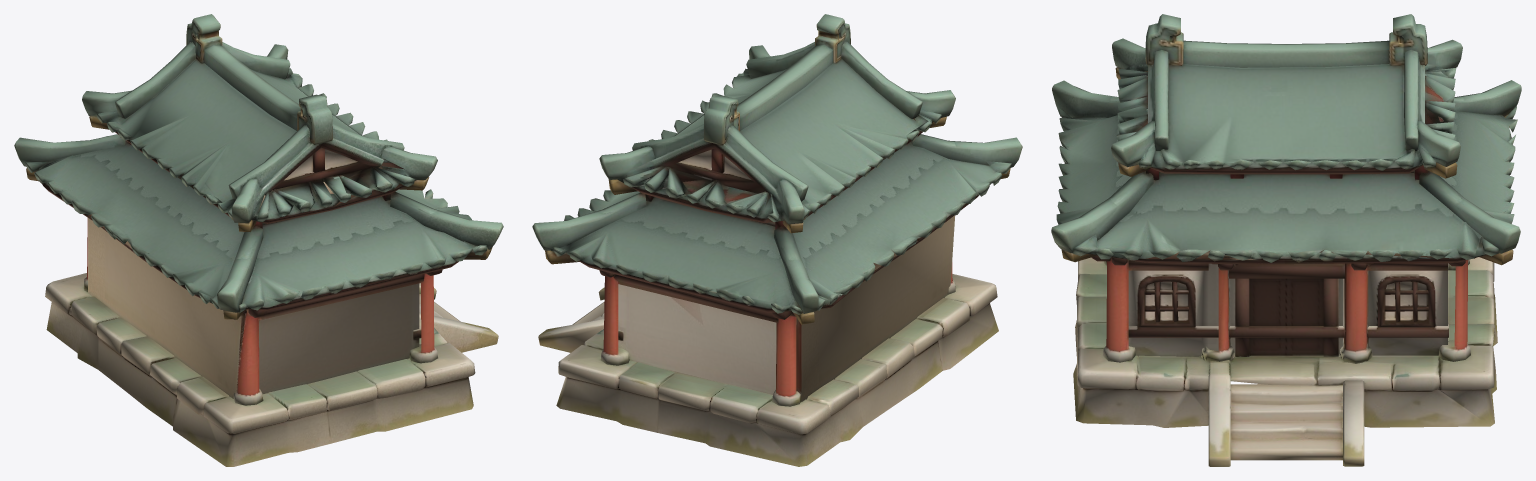
Rendered from tripo_convert_375710be-ff53-4ddc-8b32-a7a37a298681.fbx.
3 renders of one model, left to right at view 1: azimuth 30°, elevation 25°; view 2: azimuth 150°, elevation 25°; view 3: azimuth 270°, elevation 25°, orthographic. The views are drawn at different scales.
Visible parts, largest first — view 1: tripo_node_375710be; view 2: tripo_node_375710be; view 3: tripo_node_375710be.
Part boxes in pixels (x1,y1,x2,y2): tripo_node_375710be: (14, 14, 503, 466); tripo_node_375710be: (532, 14, 1022, 466); tripo_node_375710be: (1051, 14, 1521, 466).
Bounding box in the file's own units: 0.9316 × 0.7949 × 0.998.
Materials: 1 (1 with a texture image).
